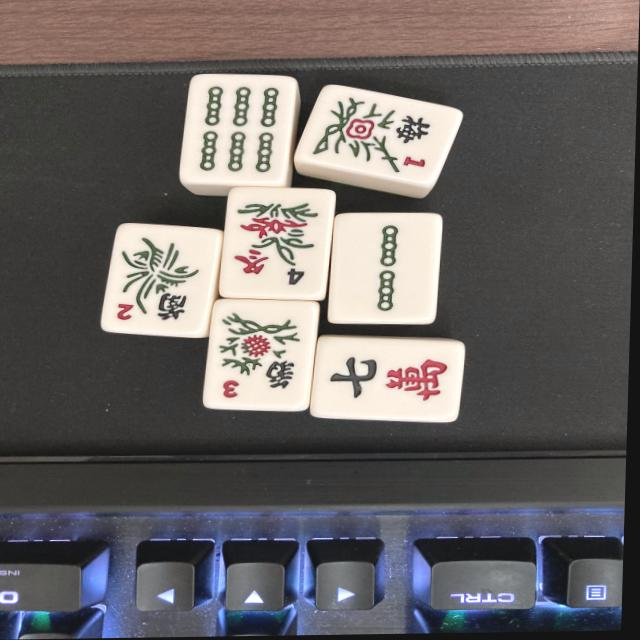f1: (296, 87, 455, 187)
f2: (102, 231, 217, 340)
f3: (209, 305, 318, 413)
ff4: (221, 189, 333, 299)
m7: (321, 340, 462, 413)
s2: (327, 217, 438, 325)
s6: (182, 77, 293, 186)
